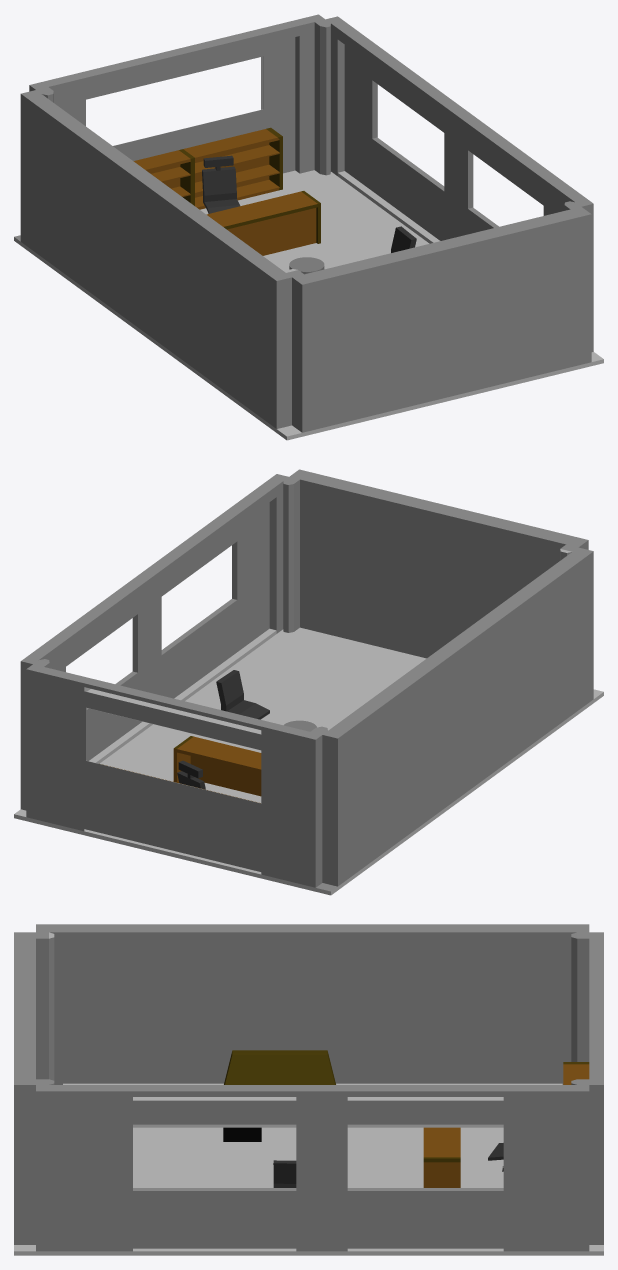
File: psikiaterRoom_base.glb
3 renders of one model, top to bottom at view 1: azimuth 30°, elevation 25°; view 2: azimuth 150°, elevation 25°; view 3: azimuth 270°, elevation 25°, orthographic. The views are drawn at different scales.
Visible parts, largest first — view 1: Cube, Cube.003, Cube.002, Cube.001; view 2: Cube, Cube.002, Cube.004, Cube.001; view 3: Cube, Cube.005, Cube.002, Cube.004, Cube.003.
Boxes of the visible parts, <box> form: Cube: <box>14,14,603,440</box>; Cube.003: <box>133,127,282,209</box>; Cube.002: <box>206,191,320,255</box>; Cube.001: <box>202,155,240,213</box>; Cube: <box>14,469,603,895</box>; Cube.002: <box>173,736,261,796</box>; Cube.004: <box>216,670,269,719</box>; Cube.001: <box>177,760,205,789</box>; Cube: <box>14,924,603,1255</box>; Cube.005: <box>223,1050,335,1141</box>; Cube.002: <box>423,1127,460,1187</box>; Cube.004: <box>273,1160,296,1187</box>; Cube.003: <box>563,1062,589,1084</box>.
Size of the model in its own units: 6.07 by 2.78 by 9.05.
